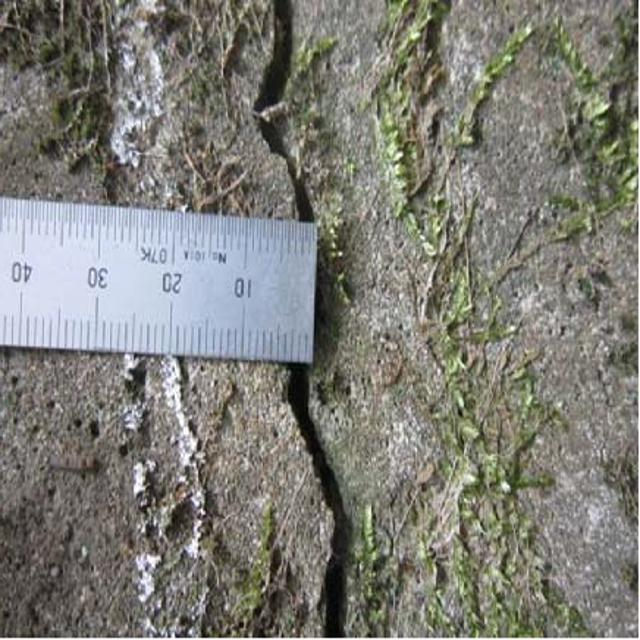crack: (268, 376, 383, 628), (245, 6, 362, 243)
